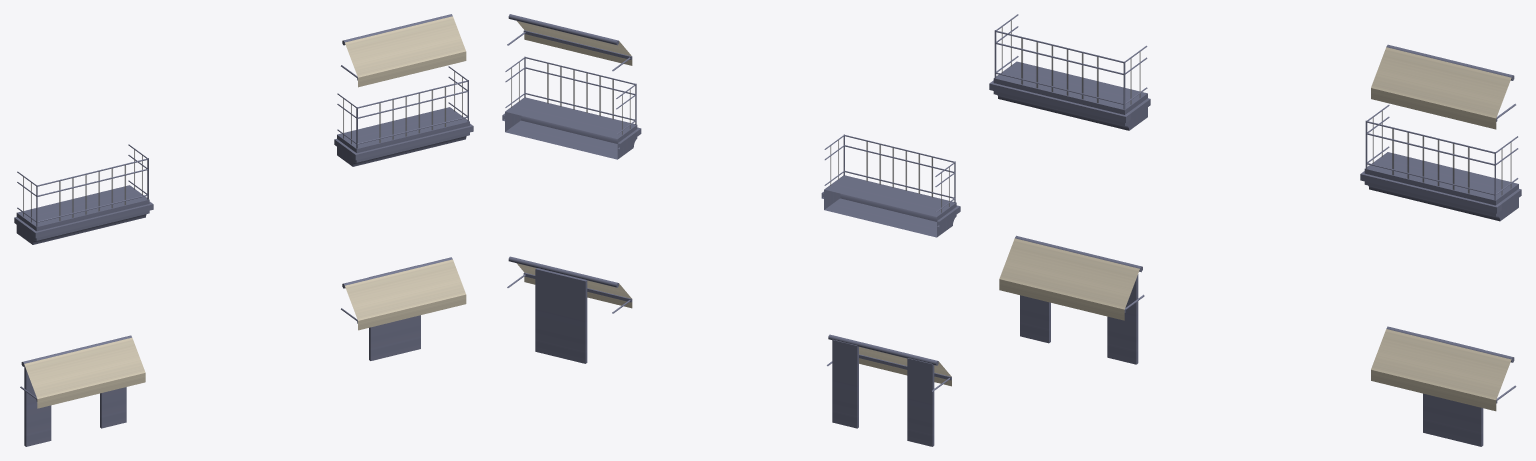
Rendered from objects_un_t06building03_wa3.gltf.
3 renders of one model, left to right at view 1: azimuth 30°, elevation 25°; view 2: azimuth 150°, elevation 25°; view 3: azimuth 330°, elevation 25°, orthographic. The views are drawn at different scales.
Visible parts, largest first — view 1: um_objects_un_t06building03_wa3_model_lod0Shape:objects_un_t (×3); view 2: um_objects_un_t06building03_wa3_model_lod0Shape:objects_un_t (×3); view 3: um_objects_un_t06building03_wa3_model_lod0Shape:objects_un_t (×3).
Boxes of the visible parts, bbox=[...] form: um_objects_un_t06building03_wa3_model_lod0Shape:objects_un_t (×3): bbox=[14, 14, 473, 446]; um_objects_un_t06building03_wa3_model_lod0Shape:objects_un_t (×3): bbox=[502, 14, 960, 446]; um_objects_un_t06building03_wa3_model_lod0Shape:objects_un_t (×3): bbox=[989, 14, 1521, 446].
Size of what is drawn, in the model's own units: 8.91 by 6.4 by 0.7509.
3 materials, 3 textured.
